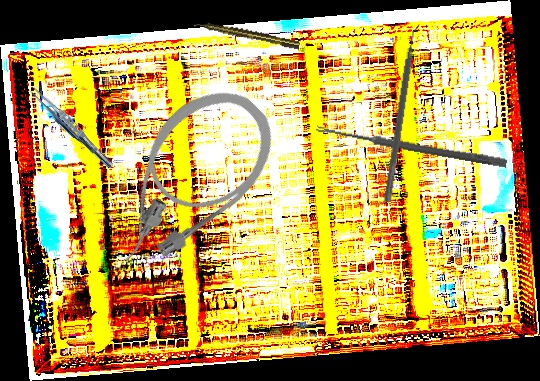Cannula: (75, 68, 296, 288)
Handpiece: (193, 18, 301, 51)
Spatula Surgical: (383, 22, 425, 204)
Surgical Spoon: (315, 124, 508, 168)
Tissue Forceps: (24, 83, 118, 171)
